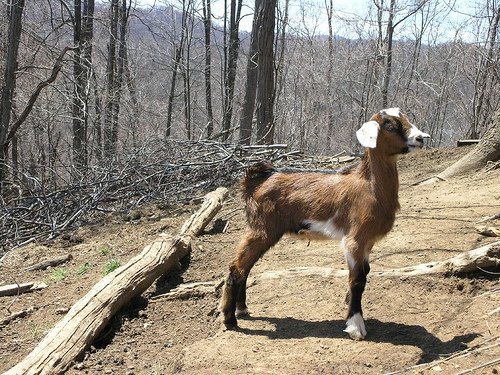goat: (219, 106, 432, 342)
